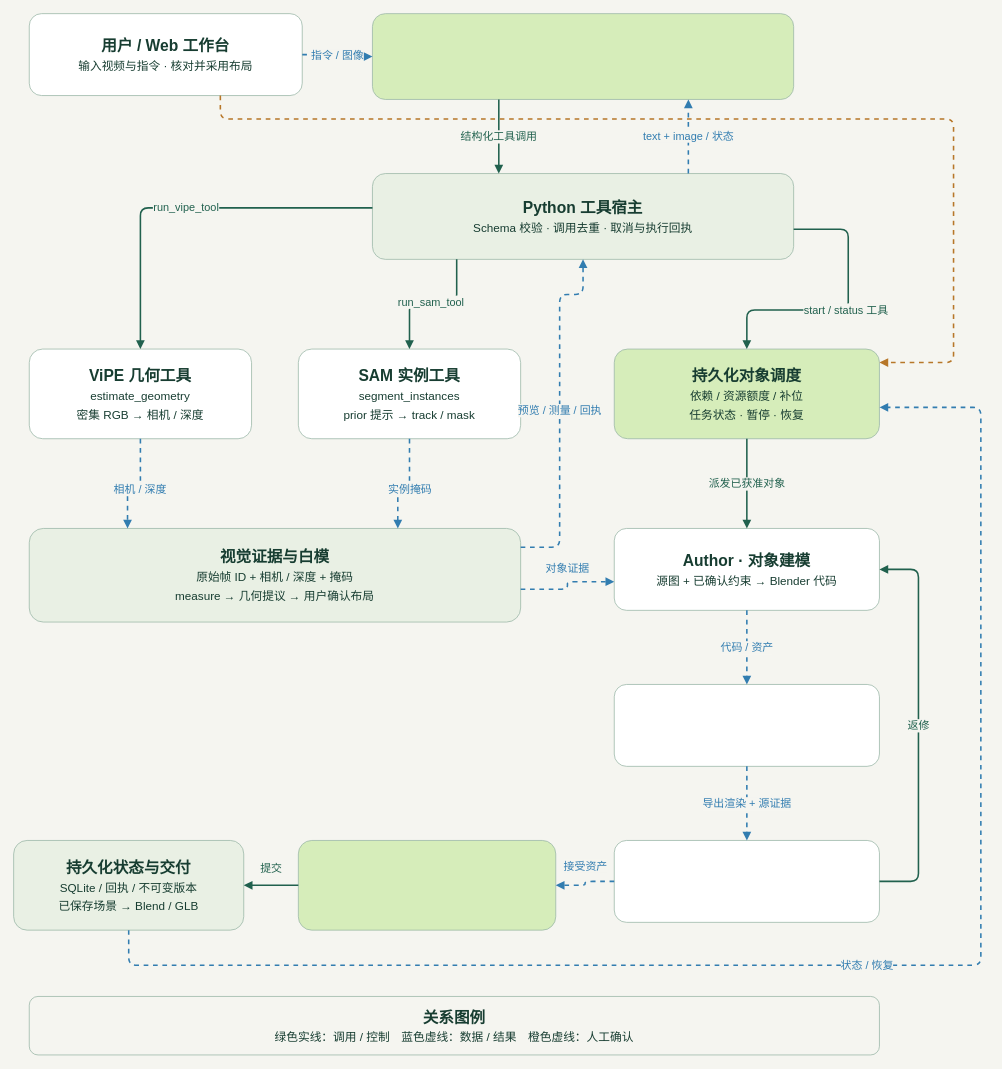
Image size: 1002x1069. Some labels were removed from this diagram. The shapes that lost their labels are listed below. From the top down, each one's centre as x and y in pixels, then its label:
(x=583, y=56): Pi 主控 · ReAct 式循环 观察图像与状态 → 选择工具 → 读取结果
(x=746, y=725): 宿主构建 / 导出 / 回渲染 实际执行 · 重开 GLB · 固定相机对比图
(x=427, y=885): 场景合并与确定性验证 最新场景 · 支撑 / 碰撞 / 边界 同场景串行提交 · revision / hash
(x=746, y=881): Critic · 独立复核 只读图像 → accept / revise / unclear
